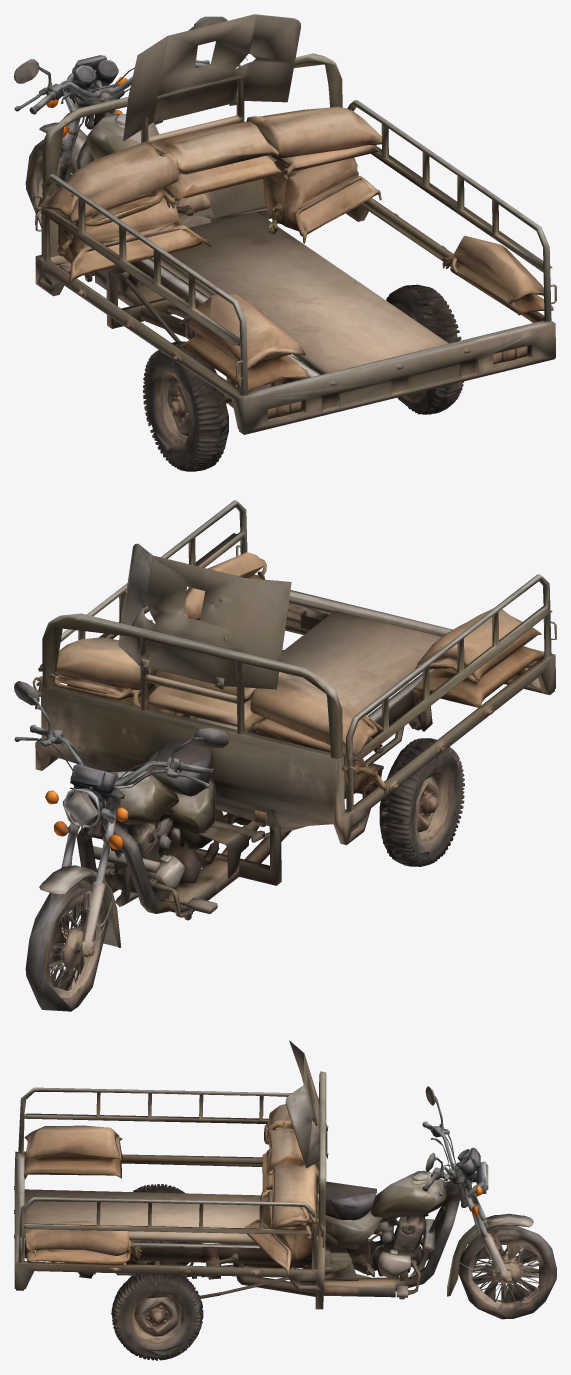
Rendered from bagac.glb.
3 views of the same model, one above another, from view 1: azimuth 30°, elevation 25°; view 2: azimuth 150°, elevation 25°; view 3: azimuth 270°, elevation 25° (orthographic). The views are drawn at different scales.
Visible parts, largest first — view 1: tripo_node_bdf5bc9c-3792-4e7c-8be4-3e700774309d; view 2: tripo_node_bdf5bc9c-3792-4e7c-8be4-3e700774309d; view 3: tripo_node_bdf5bc9c-3792-4e7c-8be4-3e700774309d.
Part boxes in pixels (x1,y1,x2,y2): tripo_node_bdf5bc9c-3792-4e7c-8be4-3e700774309d: [14, 14, 556, 471]; tripo_node_bdf5bc9c-3792-4e7c-8be4-3e700774309d: [14, 500, 556, 1011]; tripo_node_bdf5bc9c-3792-4e7c-8be4-3e700774309d: [14, 1040, 556, 1360].
Bounding box in the file's own units: 0.5112 × 0.5078 × 0.9985.
Materials: 1 (1 with a texture image).
